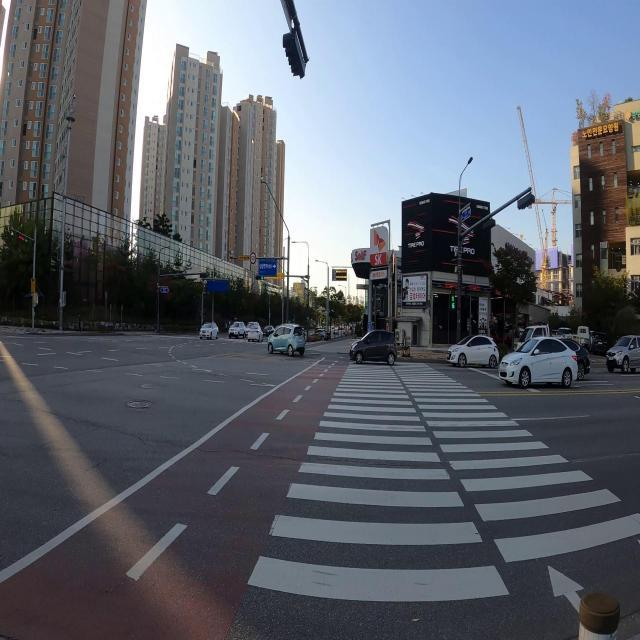crosswalk: (239, 358, 640, 616)
